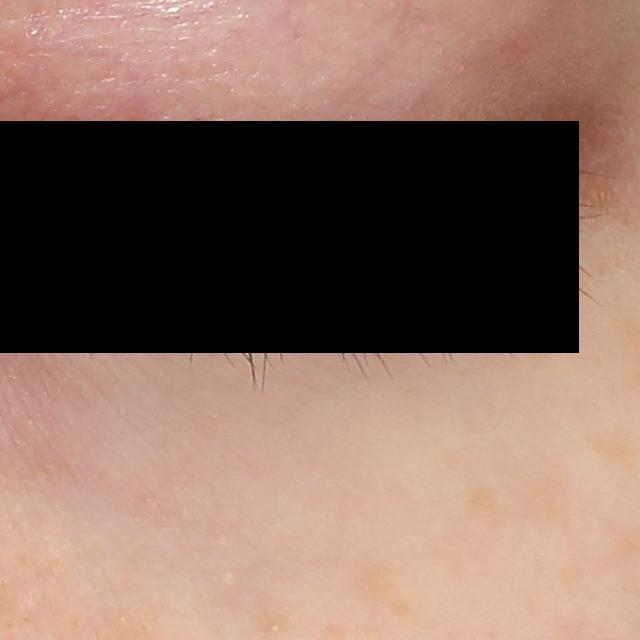melasma: (500, 459, 577, 535), (585, 421, 640, 466), (465, 480, 505, 520)
